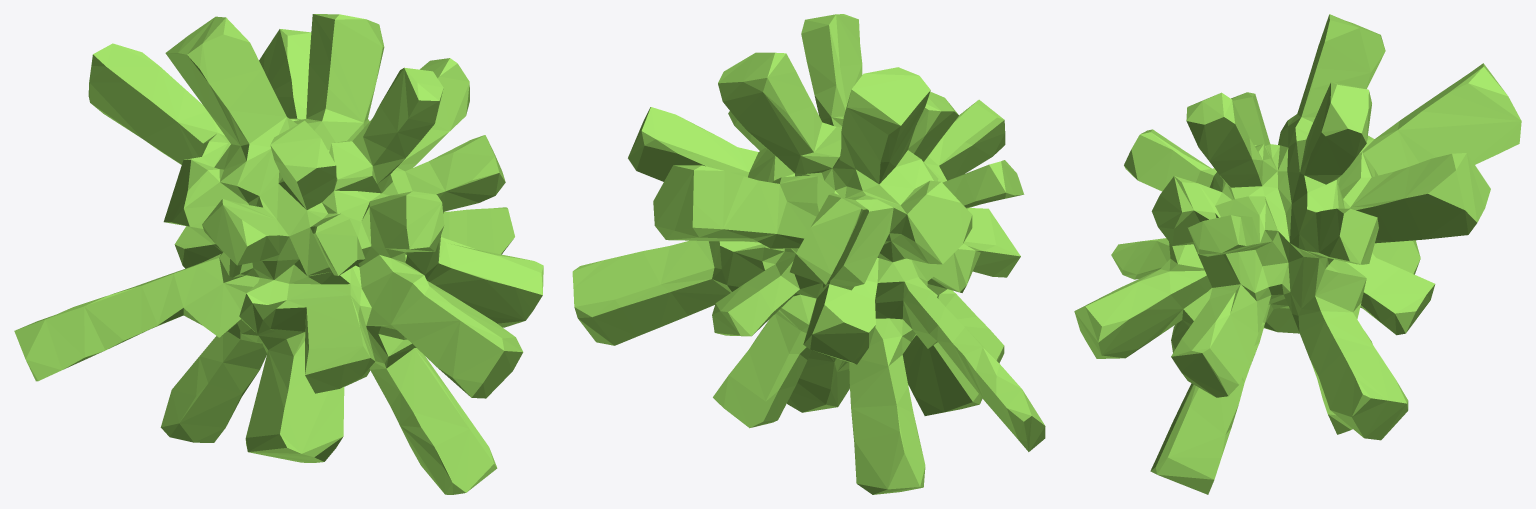
File: vox_deposit_mineral03.fbx
The picture shows the model from 3 angles, left to right: view 1: azimuth 30°, elevation 25°; view 2: azimuth 150°, elevation 25°; view 3: azimuth 270°, elevation 25°; orthographic projection. The views are drawn at different scales.
Visible parts, largest first — view 1: vox_deposit_mineral03; view 2: vox_deposit_mineral03; view 3: vox_deposit_mineral03.
Boxes of the visible parts, left/top/right/bottom form: vox_deposit_mineral03: left=14, top=14, right=543, bottom=494; vox_deposit_mineral03: left=572, top=14, right=1045, bottom=494; vox_deposit_mineral03: left=1074, top=14, right=1521, bottom=494.
Size of the model in its own units: 164 by 144 by 145.
